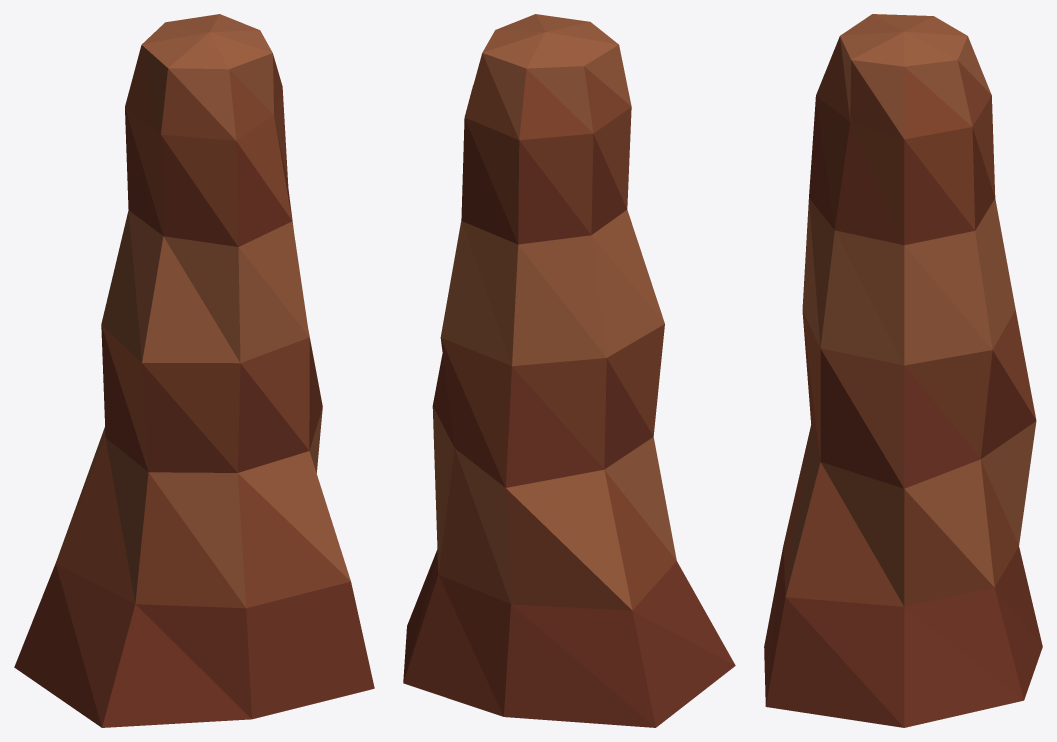
The model's file is canyon_spire.glb.
3 views of the same model, side by side, from view 1: azimuth 30°, elevation 25°; view 2: azimuth 150°, elevation 25°; view 3: azimuth 270°, elevation 25° (orthographic).
Visible parts, largest first — view 1: canyon_spire2; view 2: canyon_spire2; view 3: canyon_spire2.
Part boxes in pixels (x1,y1,x2,y2): canyon_spire2: [14, 14, 374, 727]; canyon_spire2: [403, 14, 735, 727]; canyon_spire2: [764, 14, 1042, 727].
Bounding box in the file's own units: 2.96 × 6.1 × 2.45.
